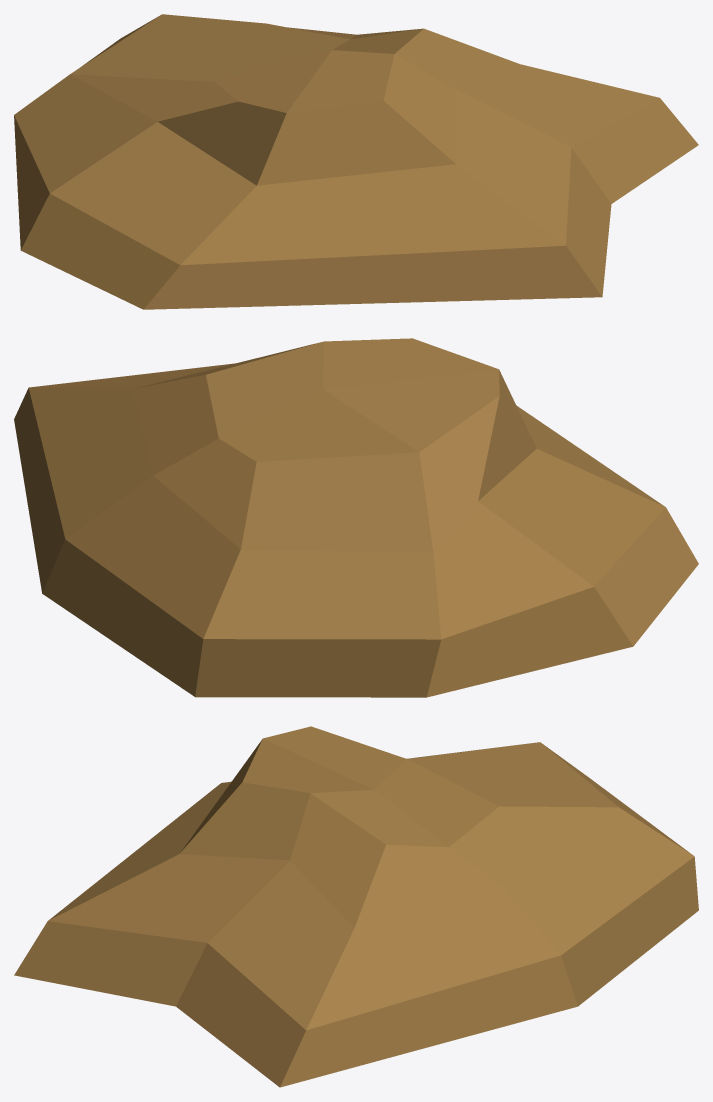
The model's file is MudRocks001.fbx.
3 views of the same model, one above another, from view 1: azimuth 30°, elevation 25°; view 2: azimuth 150°, elevation 25°; view 3: azimuth 270°, elevation 25° (orthographic). The views are drawn at different scales.
Parts seen in each view (by area): view 1: Cube.009; view 2: Cube.009; view 3: Cube.009.
Boxes of the visible parts, x1,y1,x2,y2 form: Cube.009: (14,14,698,309); Cube.009: (14,338,698,697); Cube.009: (14,726,698,1087).
Bounding box in the file's own units: 285 × 70.54 × 273.
